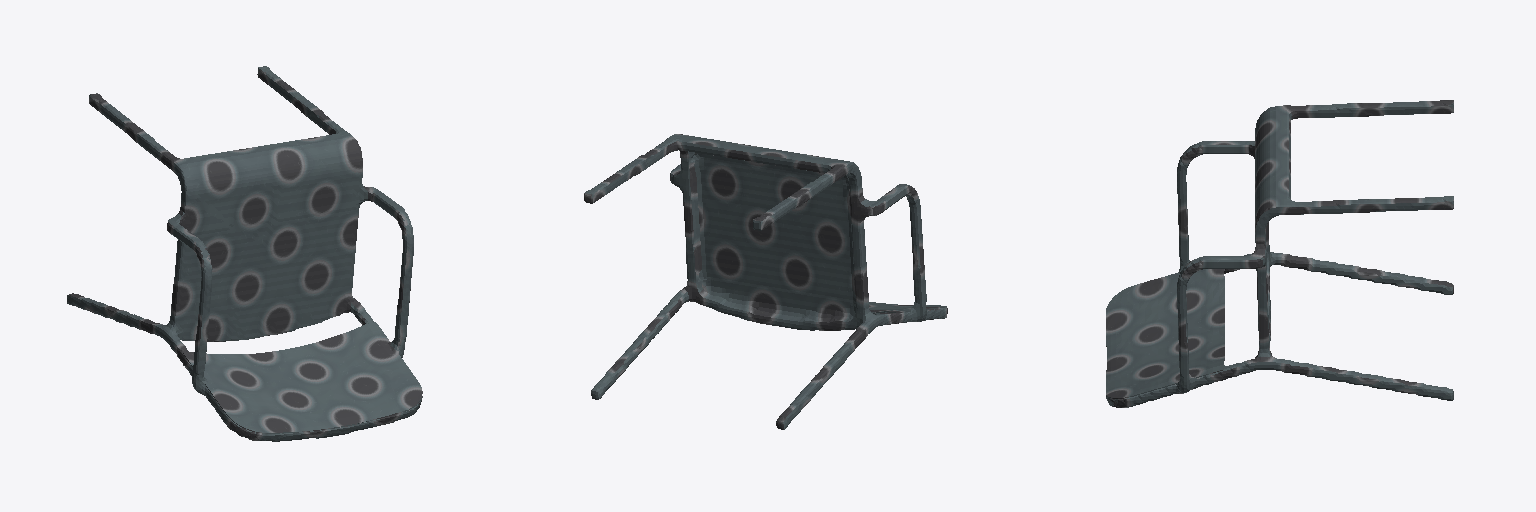
3 renders of one model, left to right at view 1: azimuth 30°, elevation 25°; view 2: azimuth 150°, elevation 25°; view 3: azimuth 270°, elevation 25°, orthographic.
Size of the model in its own units: 0.5483 by 0.5582 by 0.7515.
1 materials, 1 textured.